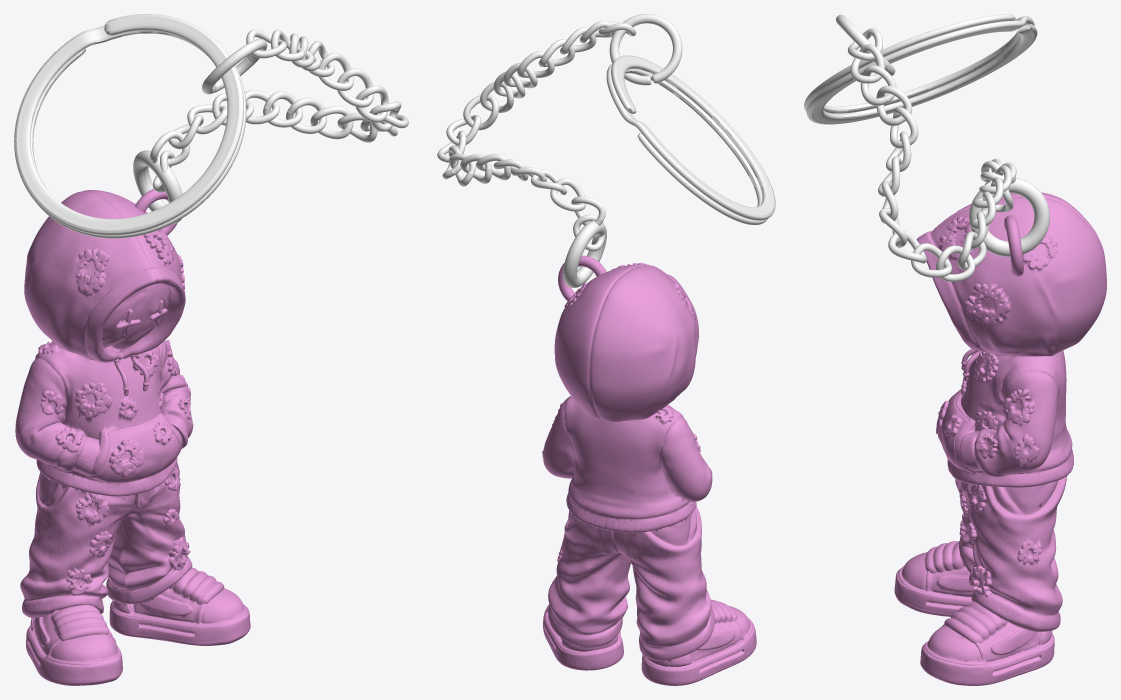
File: daisy.glb
3 renders of one model, left to right at view 1: azimuth 30°, elevation 25°; view 2: azimuth 150°, elevation 25°; view 3: azimuth 270°, elevation 25°, orthographic. The views are drawn at different scales.
Parts seen in each view (by area): view 1: Object_4; view 2: Object_4; view 3: Object_4.
Boxes of the visible parts, x1,y1,x2,y2 form: Object_4: (14, 14, 408, 685); Object_4: (437, 14, 775, 685); Object_4: (804, 14, 1106, 685).
Bounding box in the file's own units: 0.8518 × 1.46 × 0.6161.
